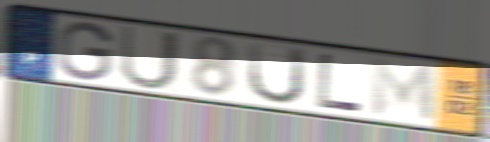8: (189, 34, 239, 100)
G: (55, 20, 116, 83)
L: (315, 51, 364, 115)
M: (370, 56, 438, 125)
U: (245, 40, 308, 107), (120, 23, 181, 92)
